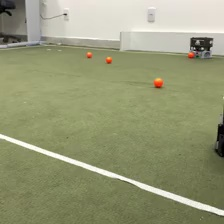ball: (153, 76, 164, 88), (104, 54, 112, 63), (187, 50, 195, 58), (86, 50, 93, 58)
goal: (118, 28, 224, 57)
robot: (188, 34, 214, 61)
